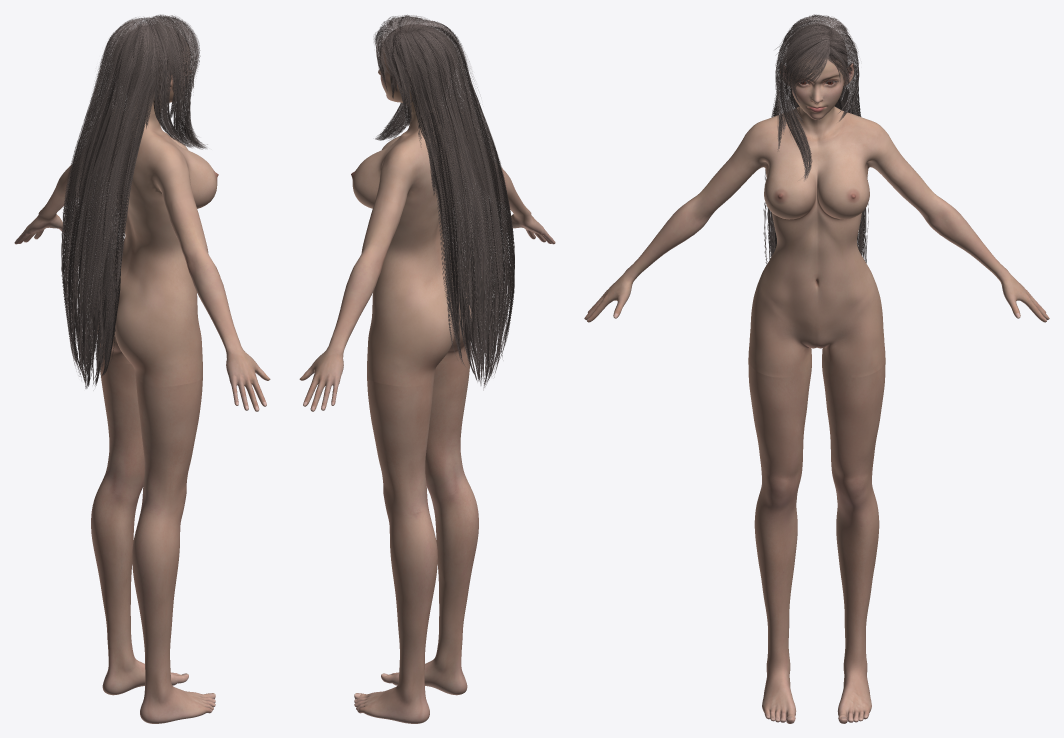
The model's file is tifa_nude.glb.
3 renders of one model, left to right at view 1: azimuth 30°, elevation 25°; view 2: azimuth 150°, elevation 25°; view 3: azimuth 270°, elevation 25°, orthographic.
Visible parts, largest first — view 1: PC0002_01.002, PC0002_01.007, PC0002_01.001; view 2: PC0002_01.002, PC0002_01.007, PC0002_01.001, PC0002_01.006; view 3: PC0002_01.001, PC0002_01.002, PC0002_01.007, PC0002_01.006.
Boxes of the visible parts, bbox=[...] form: PC0002_01.002: bbox=[91, 356, 215, 723]; PC0002_01.007: bbox=[61, 14, 207, 388]; PC0002_01.001: bbox=[14, 111, 270, 411]; PC0002_01.002: bbox=[354, 354, 478, 723]; PC0002_01.007: bbox=[373, 14, 514, 390]; PC0002_01.001: bbox=[299, 110, 555, 411]; PC0002_01.006: bbox=[378, 25, 453, 113]; PC0002_01.001: bbox=[584, 106, 1049, 377]; PC0002_01.002: bbox=[748, 360, 885, 723]; PC0002_01.007: bbox=[763, 14, 868, 263]; PC0002_01.006: bbox=[780, 25, 853, 119].
Size of the model in its own units: 1.48 by 7.04 by 4.34.
Materials: 7 (6 with a texture image).
